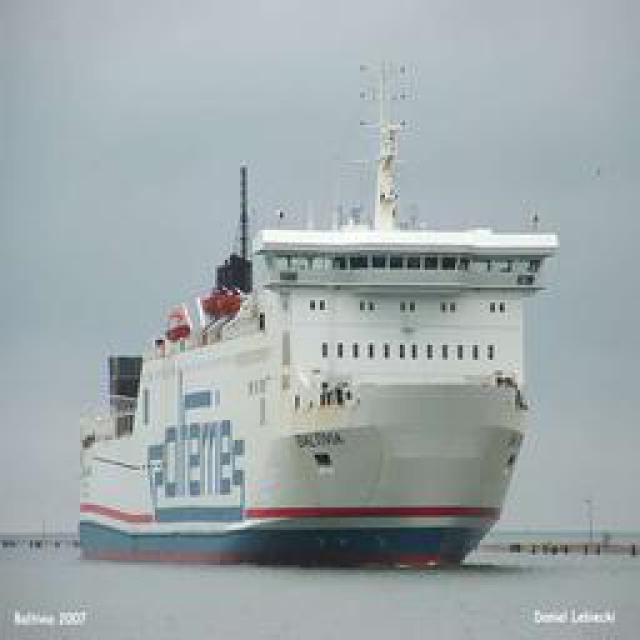Ship: (66, 126, 564, 551)
